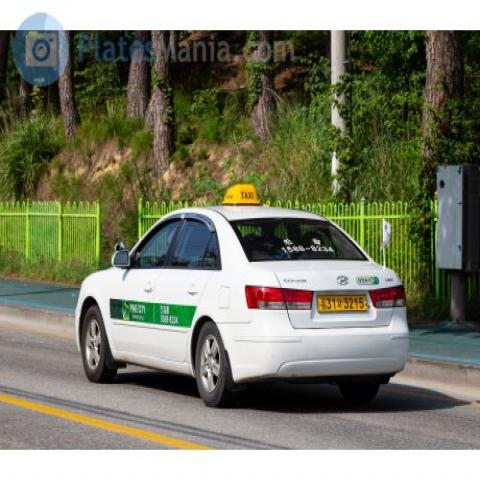LP: (308, 286, 373, 319)
